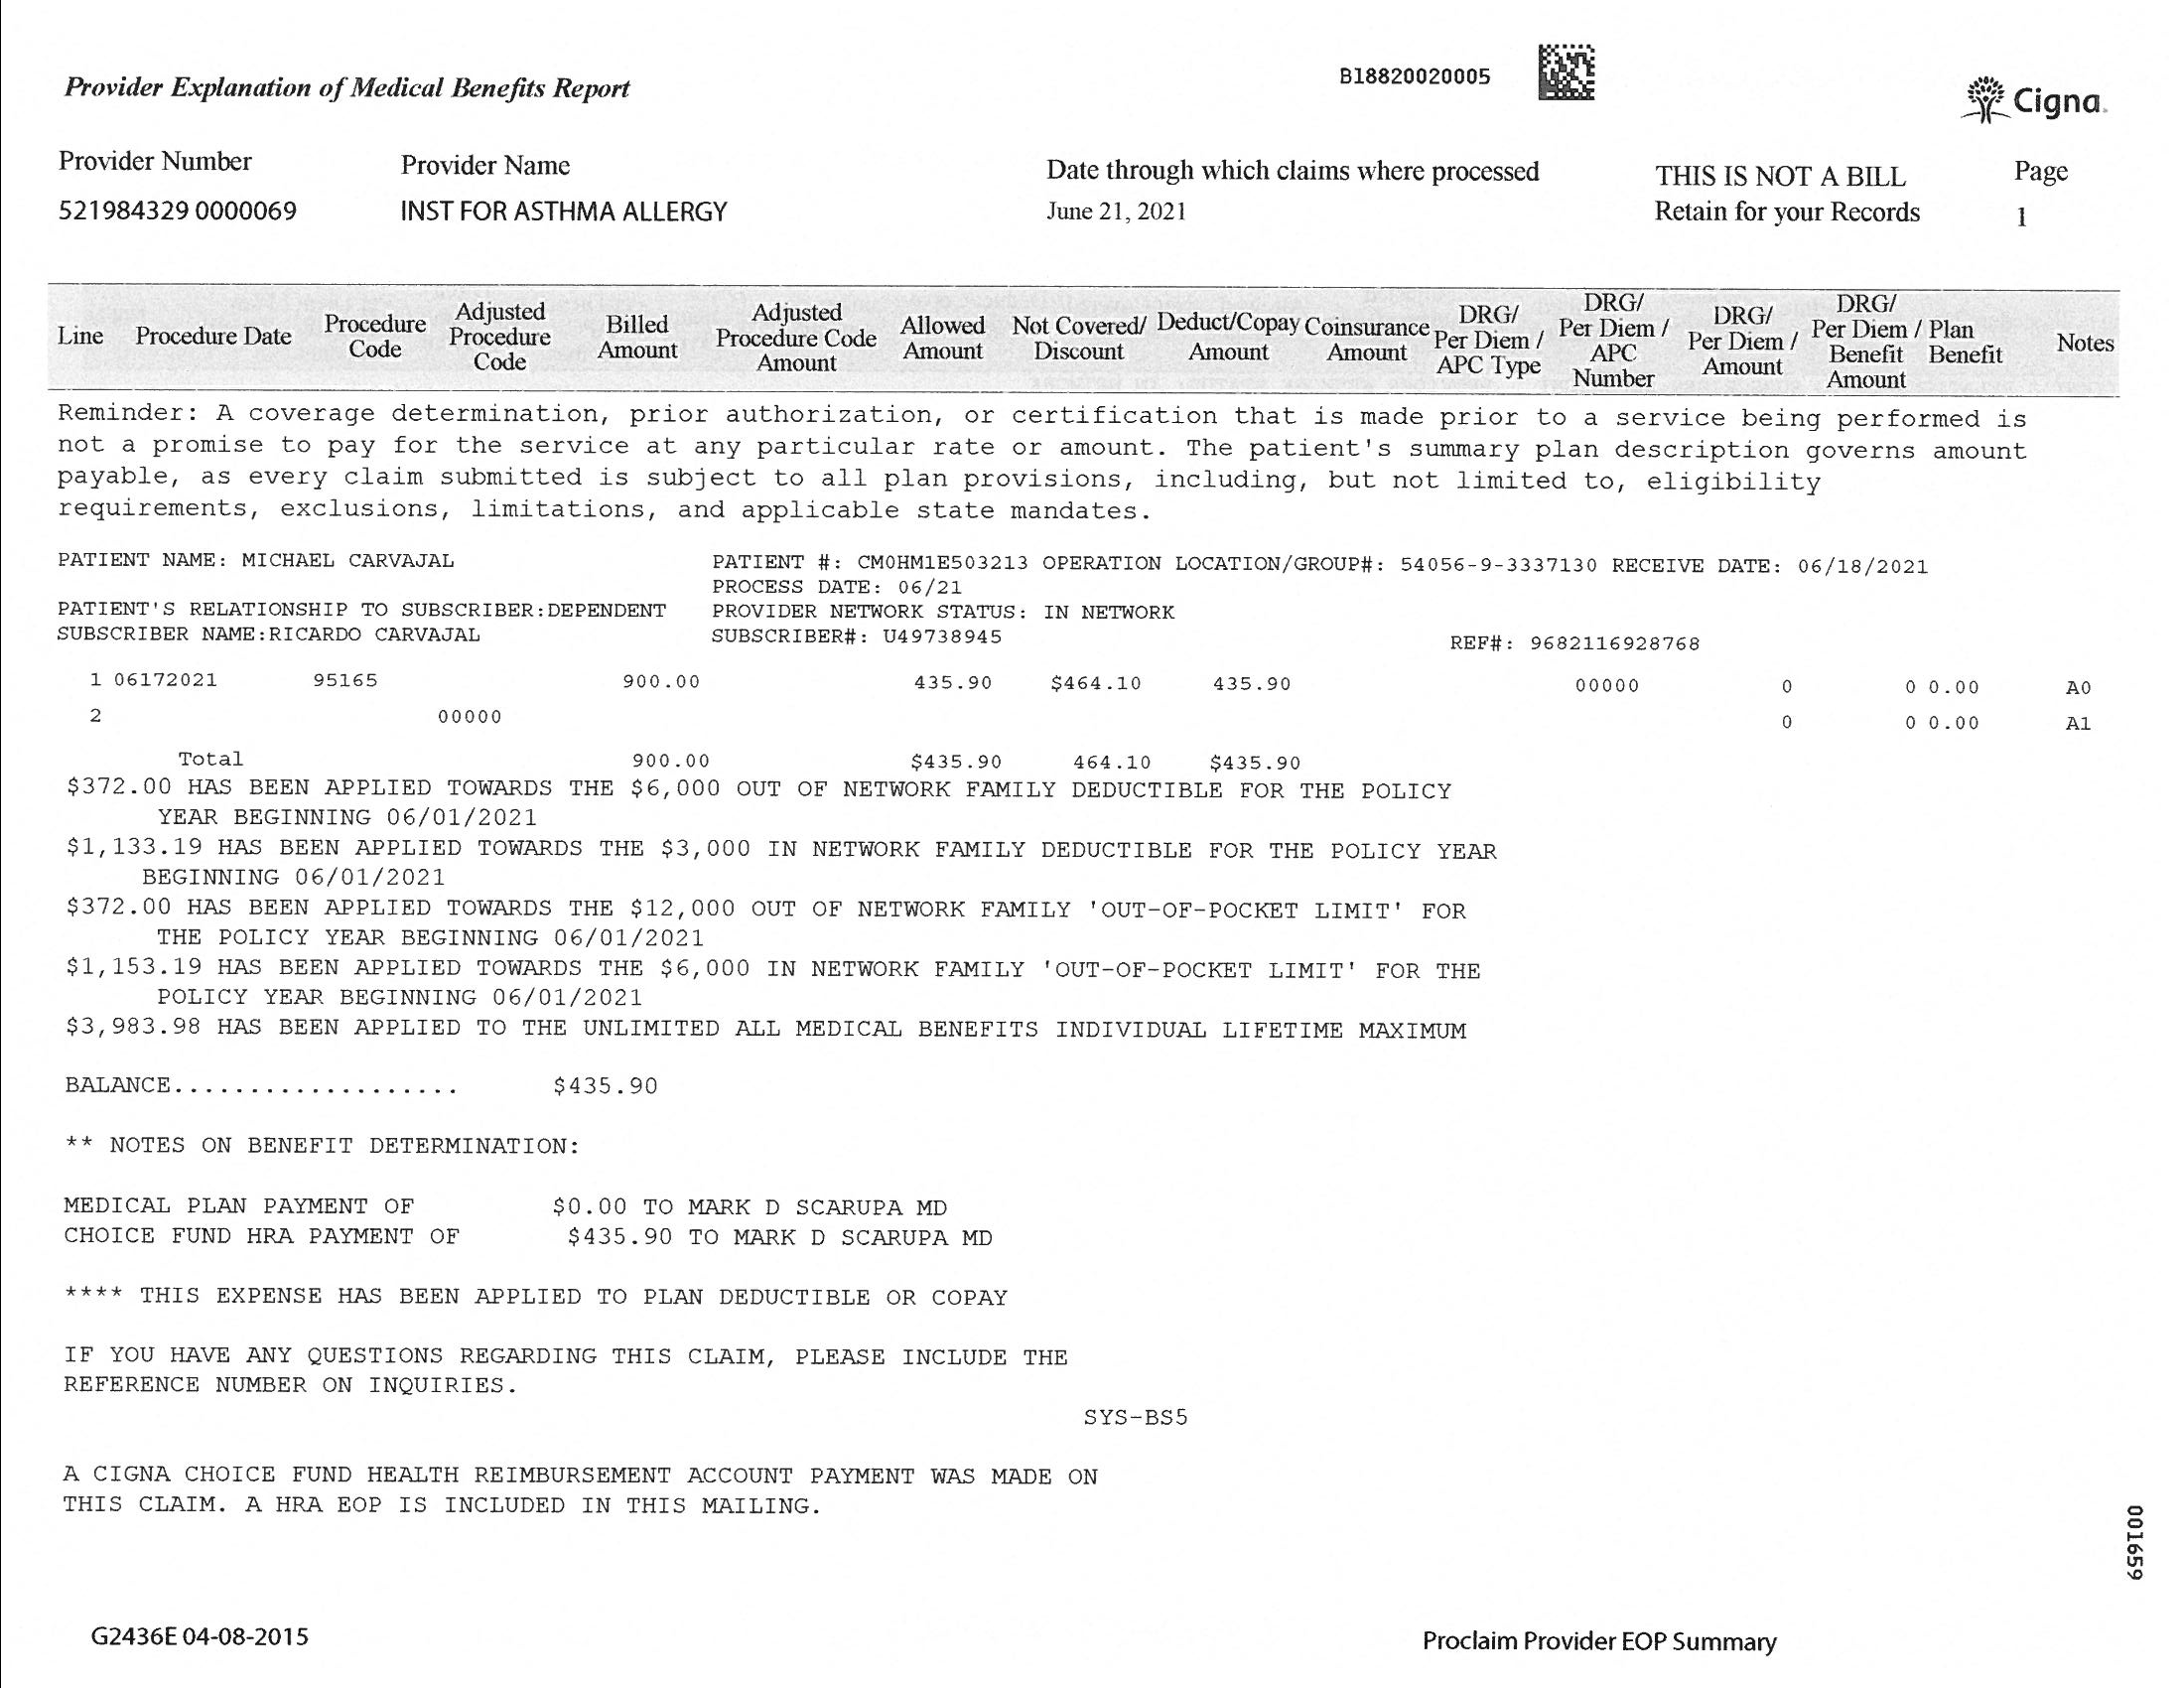data: (43, 129, 759, 236)
